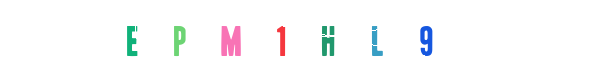1: (242, 0, 322, 80)
9: (386, 0, 466, 80)
E: (141, 0, 221, 80)
H: (258, 0, 338, 80)
L: (344, 0, 424, 80)
M: (199, 0, 279, 80)
P: (191, 0, 271, 80)
